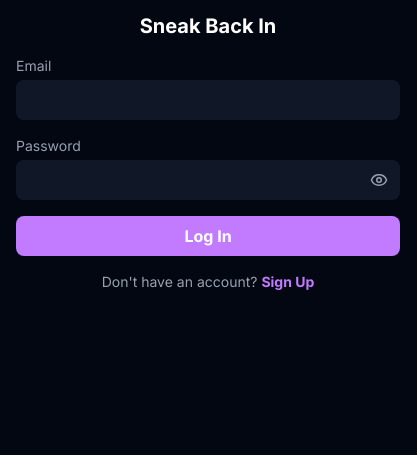
Test case: AuthForm › switches to signup mode and updates the title and submit button when toggled
This screenshot has width=417, height=455.
Expected: the heading "Sneak Back In" is shown, [140,14,276,38]
Click the button "Sign Up". click: [288, 282]
box: [261,272,314,292]
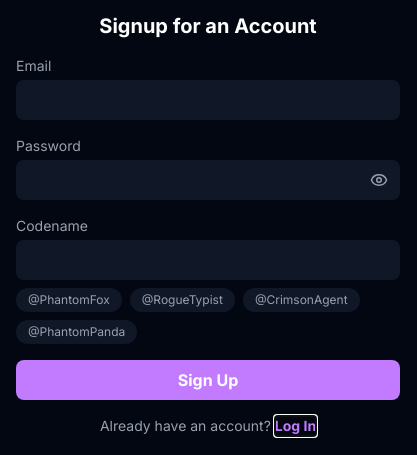
Expected: the heading "Signup for an Account" is shown, [99,14,317,38]
